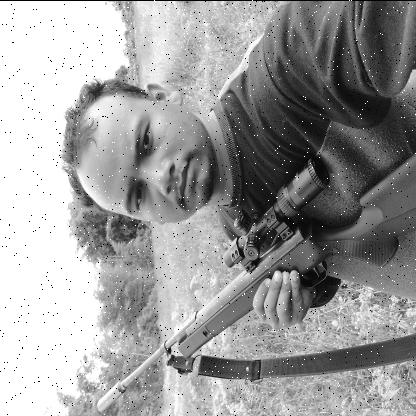rifle: (96, 149, 416, 413)
